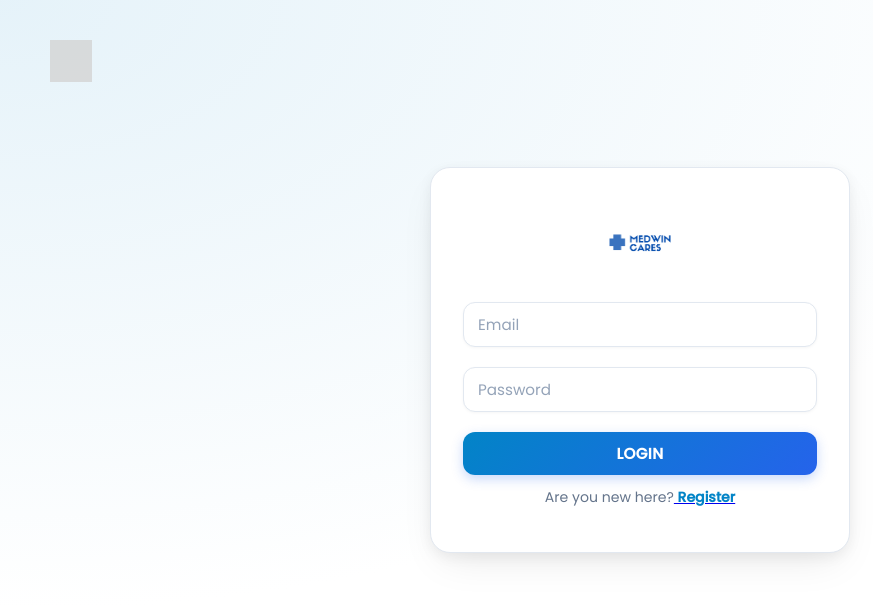
Scenario: Doctor Authentication Flow › handles failed login and displays error message
Type "wrong@example.com" into the field with placeholder "Email".
click(640, 325); type("wrong@example.com")  # box x1=463 y1=302 x2=817 y2=347
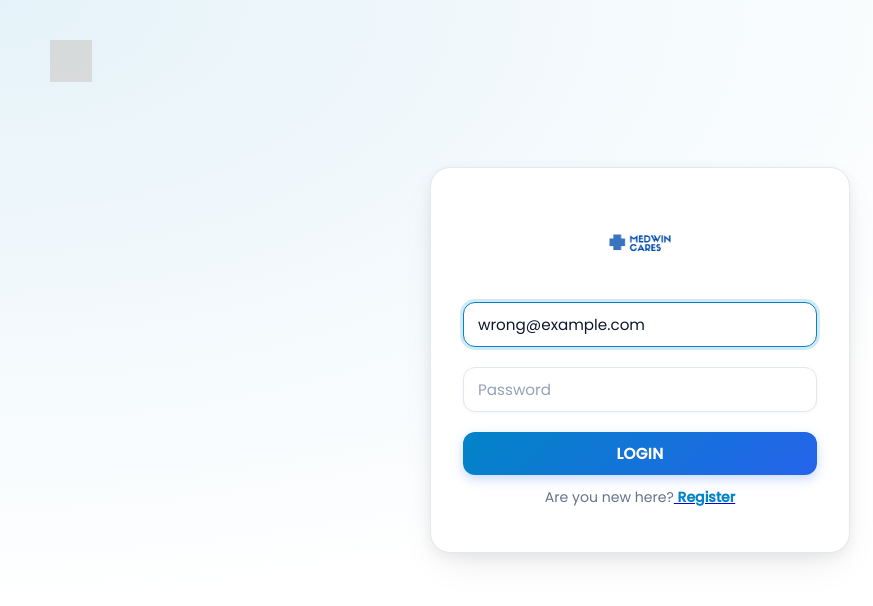
Type "wrongpassword" into the password field with placeholder "Password".
click(640, 390); type("wrongpassword")  # box x1=463 y1=367 x2=817 y2=412
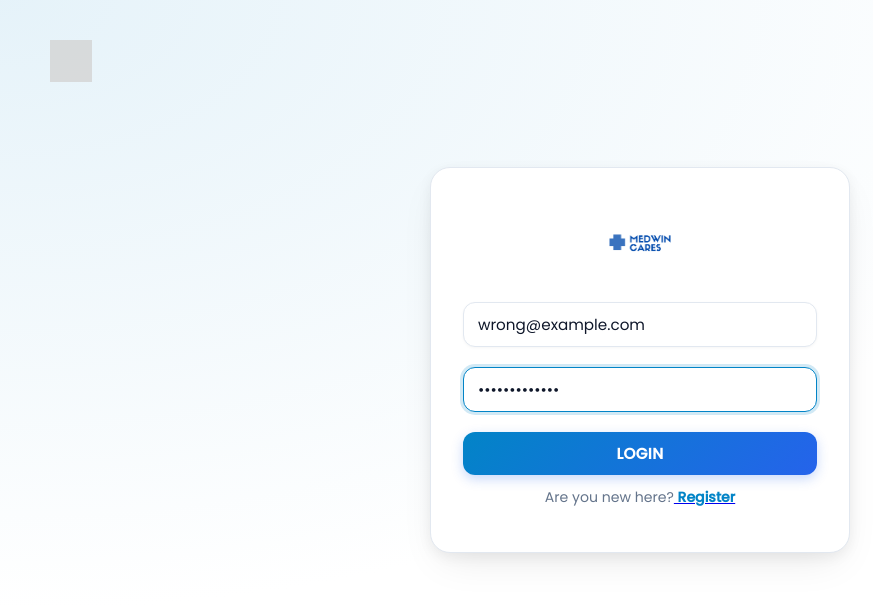
Click the submit button.
click(640, 454)  # box x1=463 y1=432 x2=817 y2=475
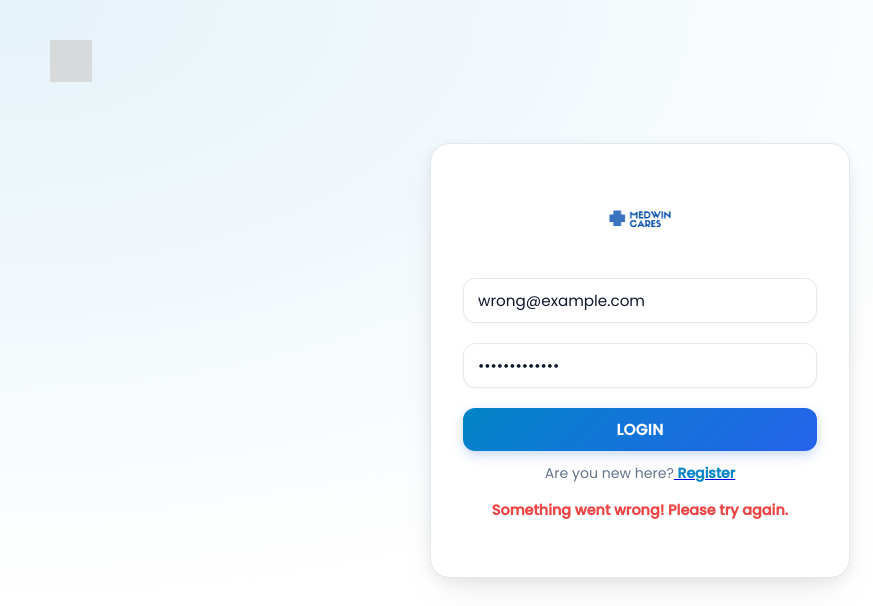
Expected: the text "Something went wrong! Please try again." is shown, x1=492 y1=500 x2=788 y2=520
Expected: the text with class "errorMsg" reads "Something went wrong! Please try again.", x1=492 y1=500 x2=788 y2=521
